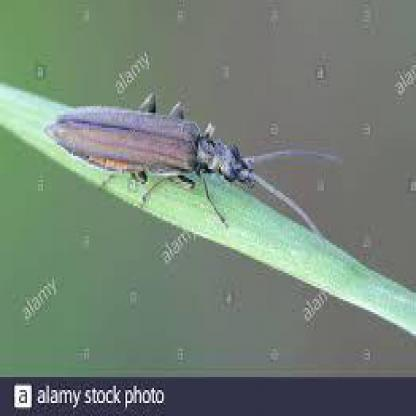blister beetle: (40, 93, 339, 213)
